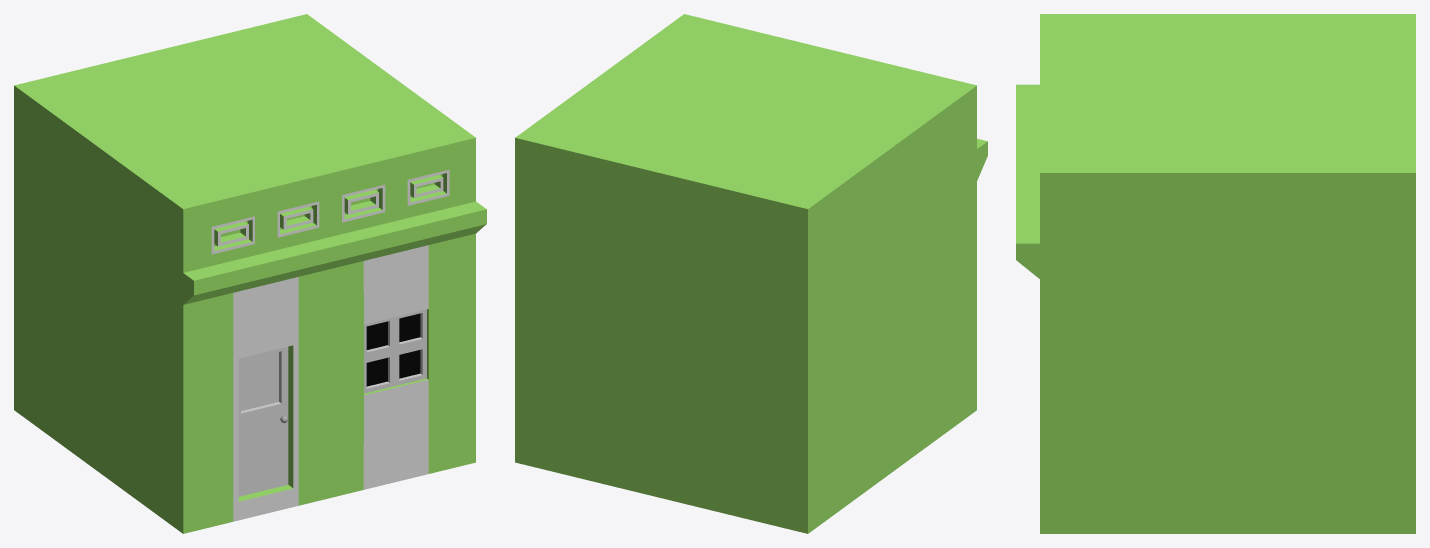
File: House_Green.fbx
3 renders of one model, left to right at view 1: azimuth 30°, elevation 25°; view 2: azimuth 150°, elevation 25°; view 3: azimuth 270°, elevation 25°, orthographic. The views are drawn at different scales.
Parts seen in each view (by area): view 1: House.001; view 2: House.001; view 3: House.001.
Part boxes in pixels (x1=…): House.001: x1=14, y1=14, x2=486, y2=533; House.001: x1=515, y1=14, x2=987, y2=533; House.001: x1=1016, y1=14, x2=1415, y2=533.
Bounding box in the file's own units: 200 × 212 × 213.
